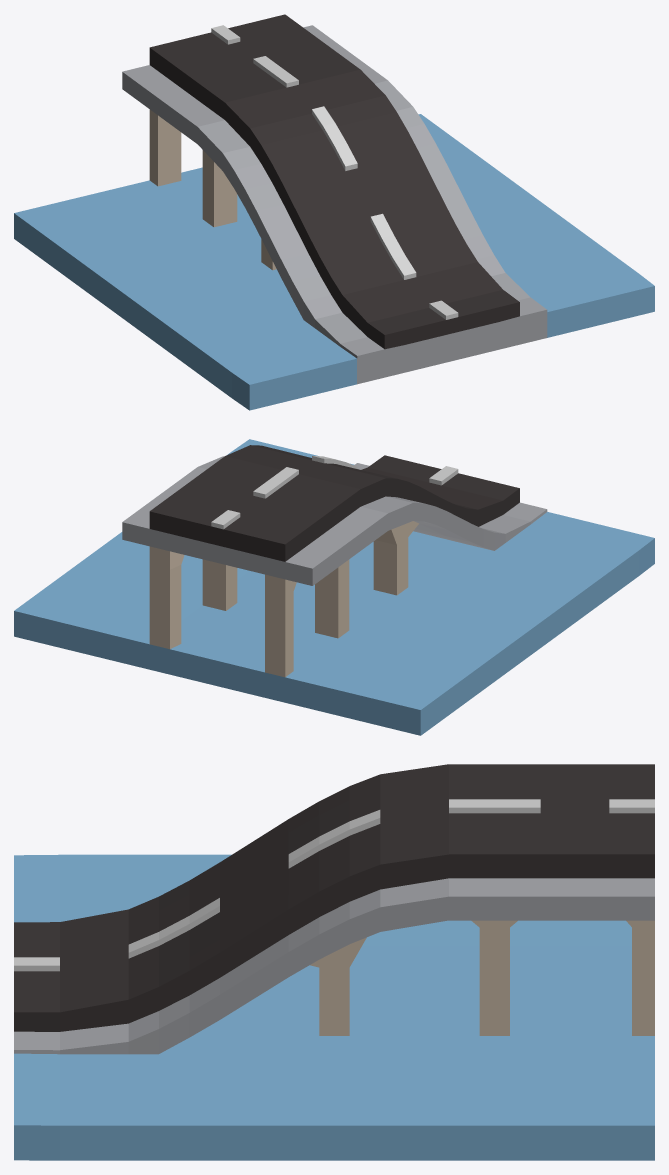
Rendered from Street_Bridge_WaterRamp.glb.
3 views of the same model, one above another, from view 1: azimuth 30°, elevation 25°; view 2: azimuth 150°, elevation 25°; view 3: azimuth 270°, elevation 25° (orthographic). The views are drawn at different scales.
Visible parts, largest first — view 1: Street_Ramp_Water; view 2: Street_Ramp_Water; view 3: Street_Ramp_Water.
Boxes of the visible parts, x1,y1,x2,y2 form: Street_Ramp_Water: [14, 14, 654, 410]; Street_Ramp_Water: [14, 439, 654, 735]; Street_Ramp_Water: [14, 764, 654, 1160].
Size of the model in its own units: 2 by 0.7638 by 2.
